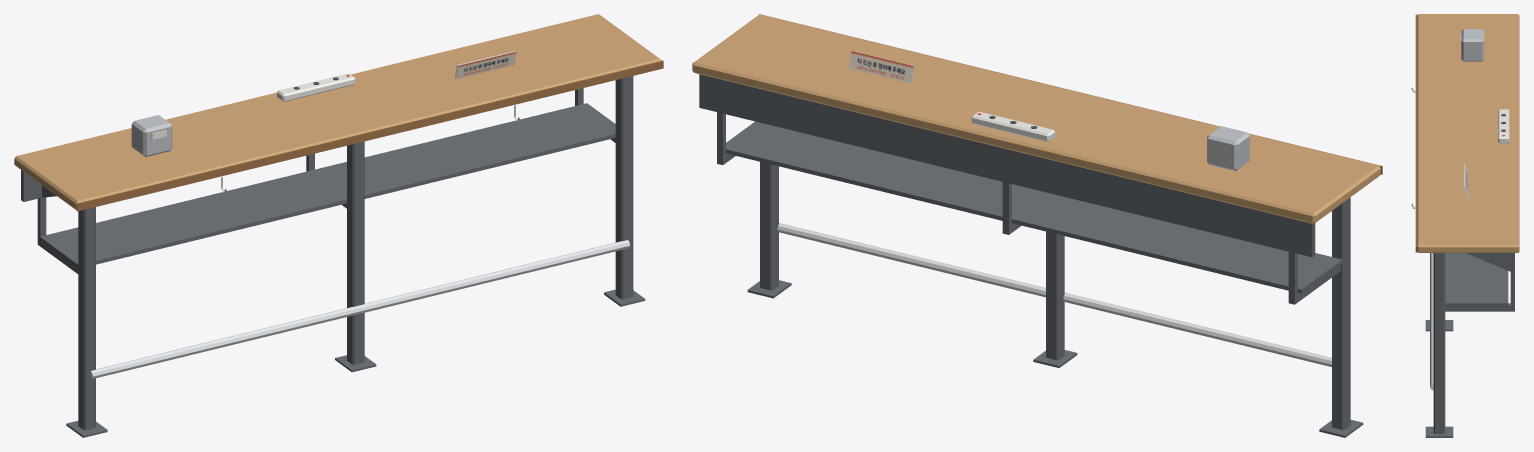
The model's file is SC_Fix_Window_Counter.gltf.
3 renders of one model, left to right at view 1: azimuth 30°, elevation 25°; view 2: azimuth 150°, elevation 25°; view 3: azimuth 270°, elevation 25°, orthographic. The views are drawn at different scales.
Parts seen in each view (by area): view 1: SC_Fix_Window_Counter; view 2: SC_Fix_Window_Counter; view 3: SC_Fix_Window_Counter.
Part boxes in pixels (box(x1,y1,x2,y2)): SC_Fix_Window_Counter: box(14, 14, 663, 437); SC_Fix_Window_Counter: box(692, 14, 1382, 437); SC_Fix_Window_Counter: box(1411, 14, 1519, 437).
Size of the model in its own units: 2.4 by 1.06 by 0.473.
3 materials, 3 textured.
